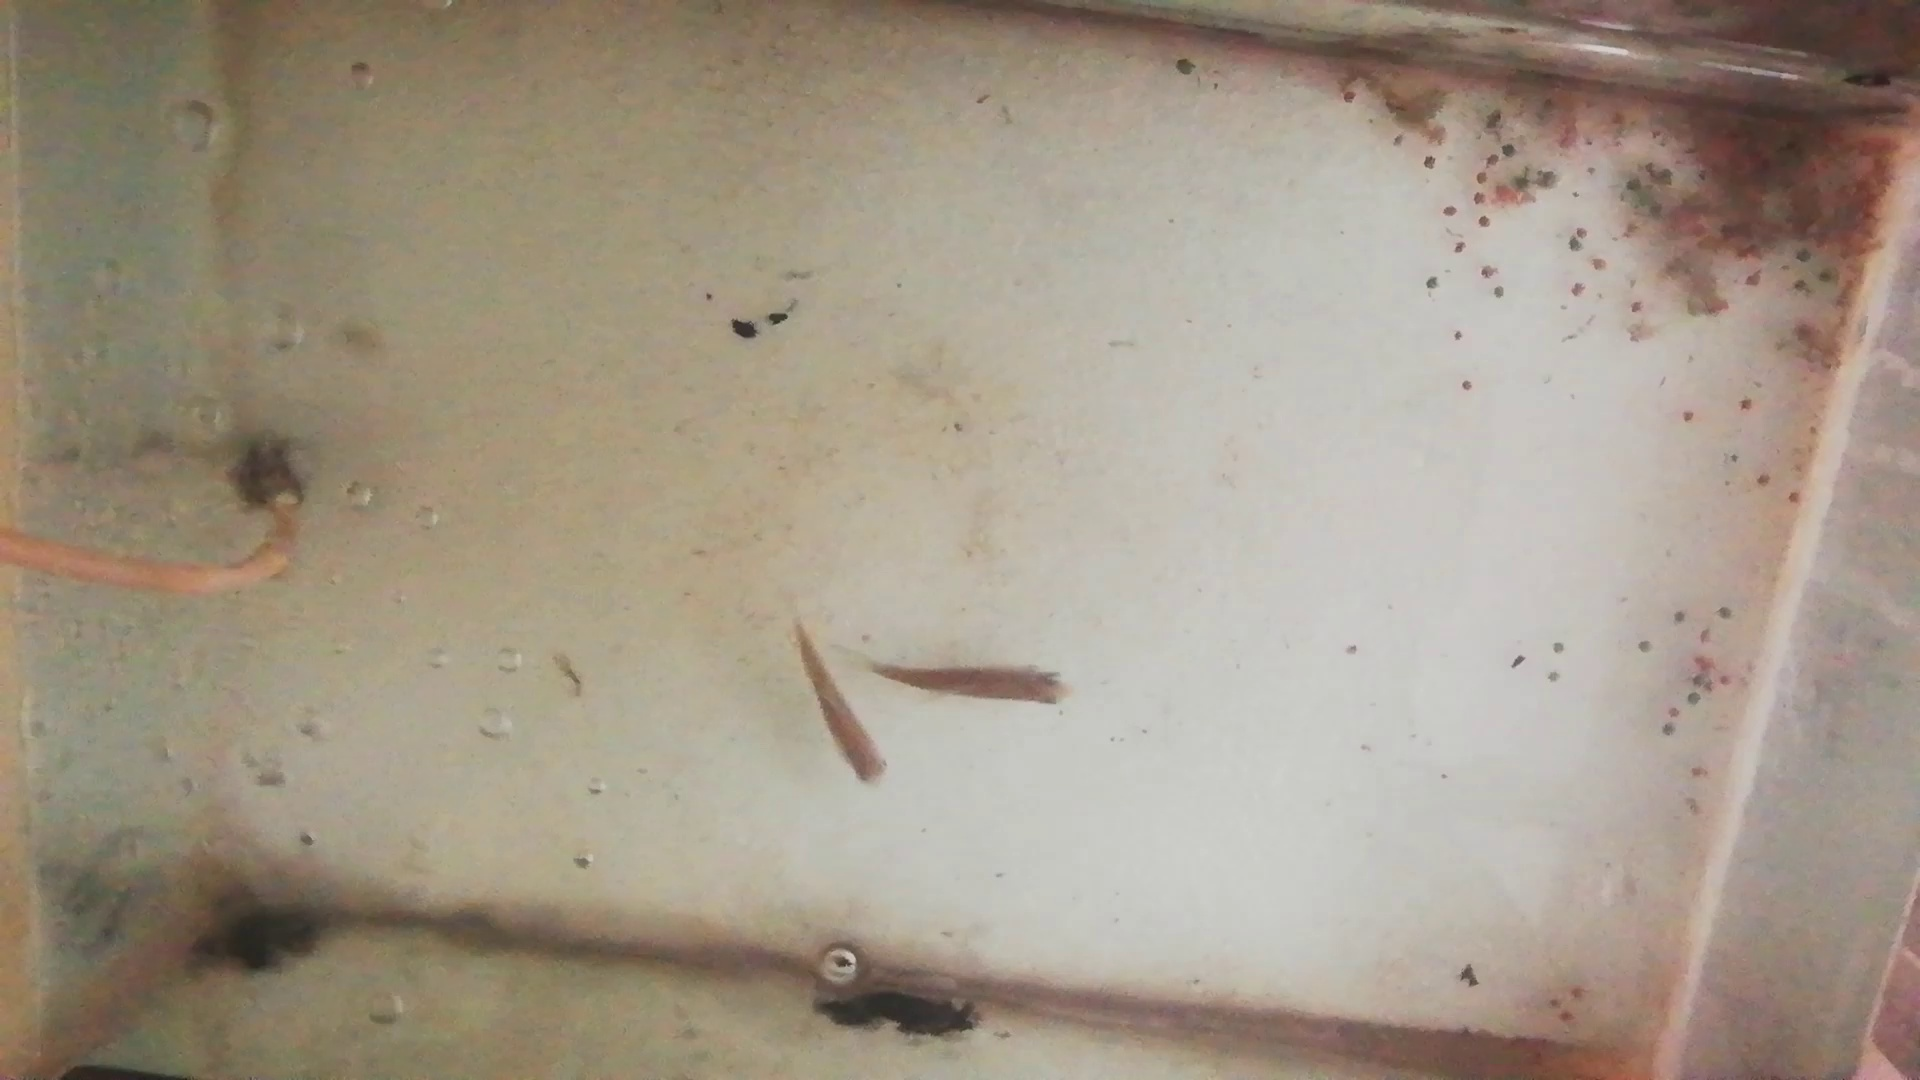fish: (794, 625, 894, 789), (876, 655, 1069, 707)
